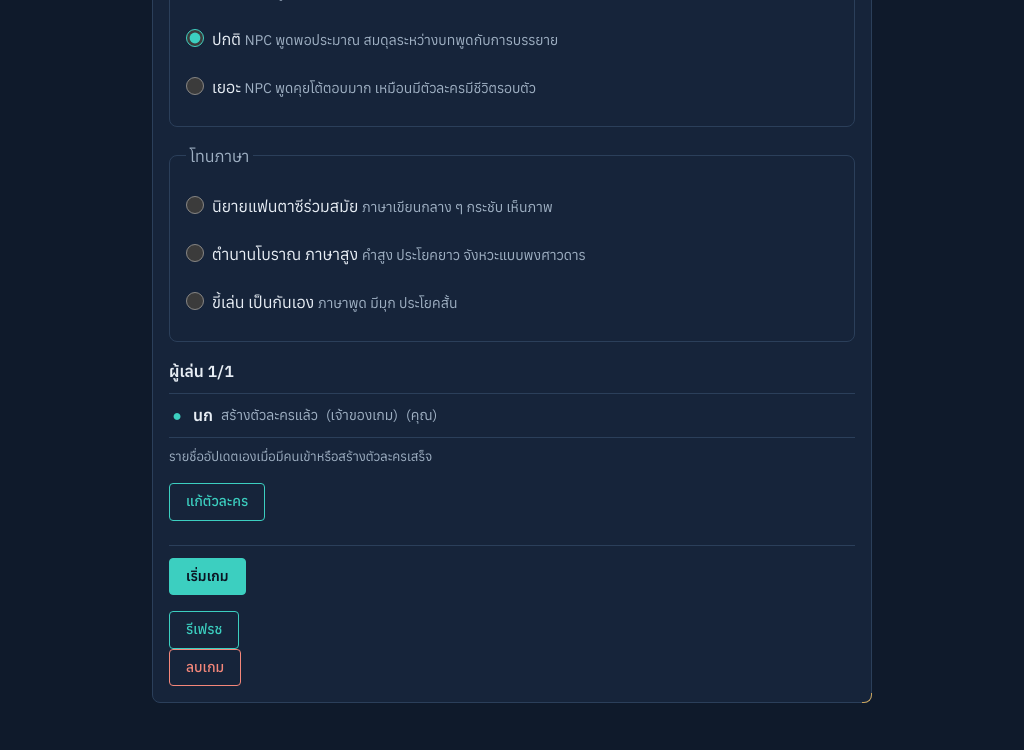
Test case: Character loot step (GEN-048) › C1: after a reload the kept skill and item are loaded from the server
(page scrolled)
Click the button "แก้ตัวละคร": click(217, 502) [169,483,265,521]
(page scrolled)
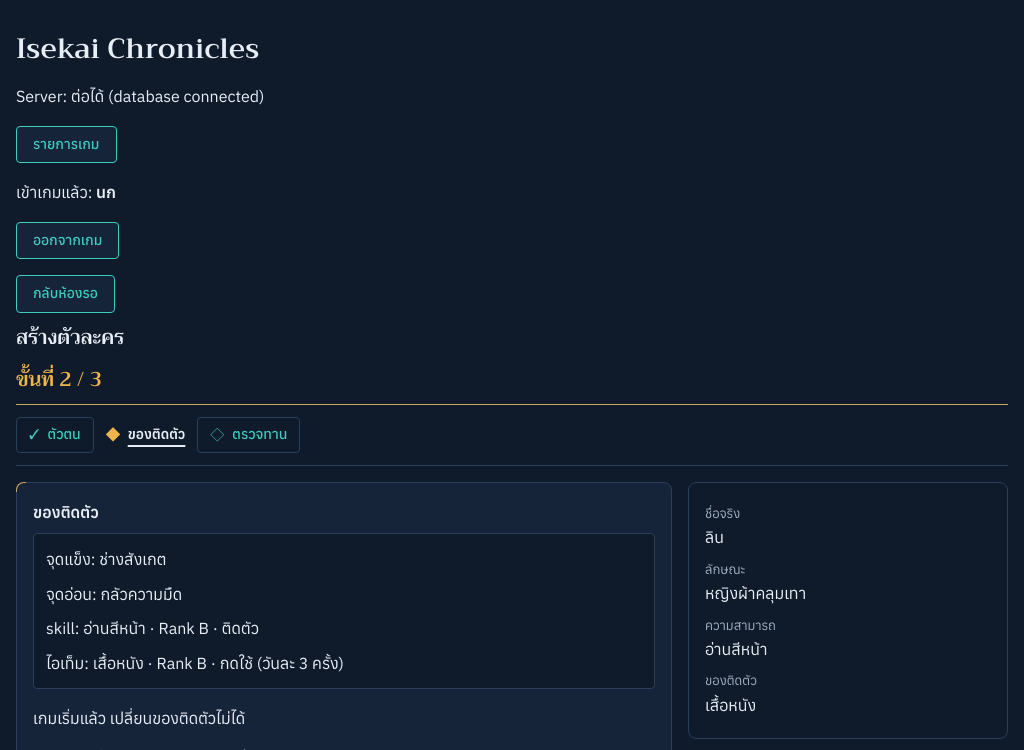
Expected: the list named "ของติดตัวที่เลือก" shows "อ่านสีหน้า", [83,618,259,638]
Expected: the list named "ของติดตัวที่เลือก" shows "เสื้อหนัง", [93,652,344,672]
